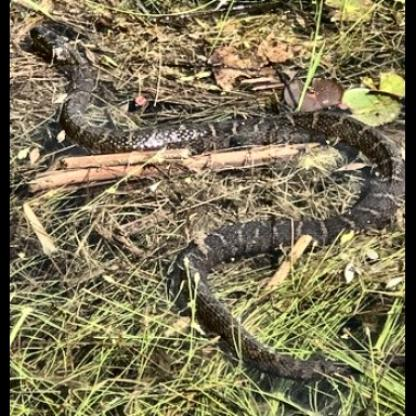Snake: (29, 28, 399, 401)
